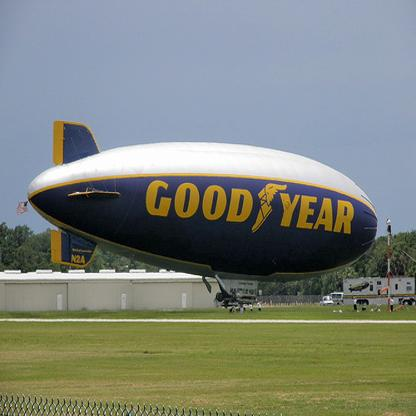Airship: (15, 113, 382, 316)
